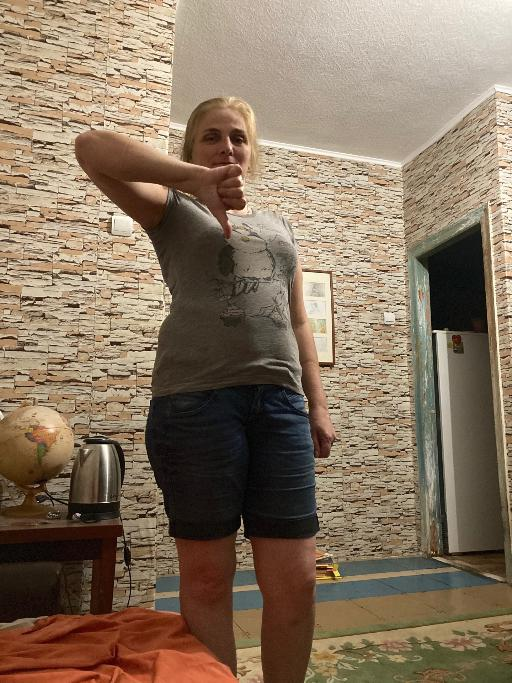dislike: (197, 161, 248, 238)
no_gesture: (305, 401, 337, 460)
